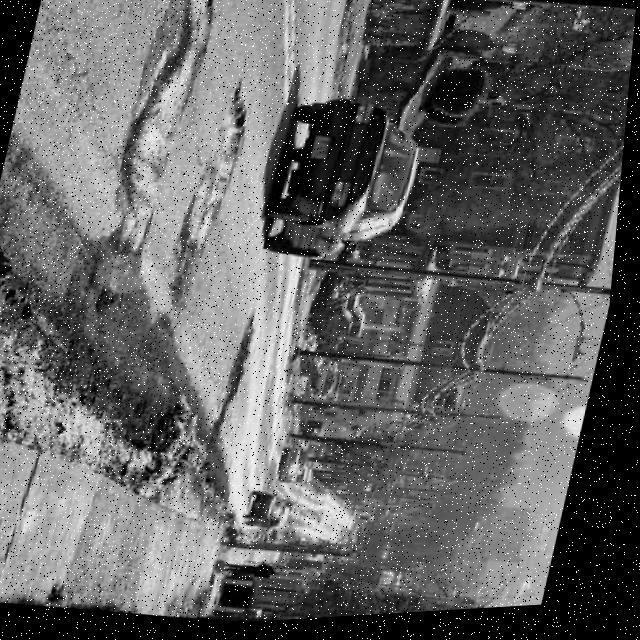pothole: (100, 0, 223, 259), (169, 76, 263, 315), (220, 313, 271, 441)
